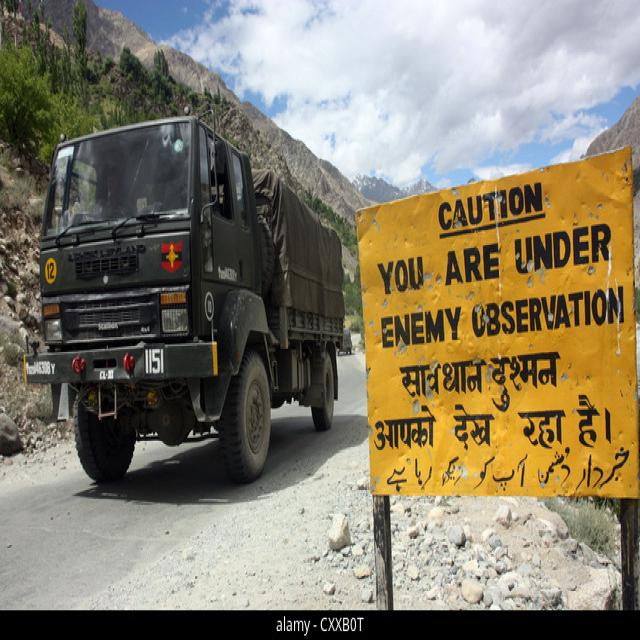truck: (22, 113, 345, 483)
